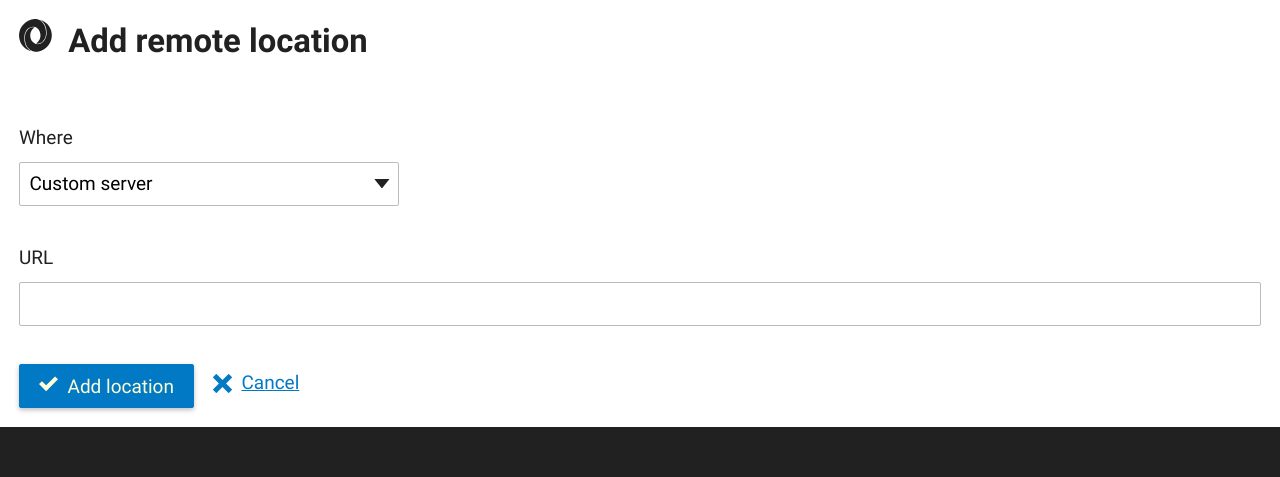
Scenario: should not be able to add with a non http(s) URL
The width and height of the screenshot is (1280, 477).
Step 1. Select "Custom server" in the dropdown labelled "Where" → (209, 184), box [19, 162, 399, 206]
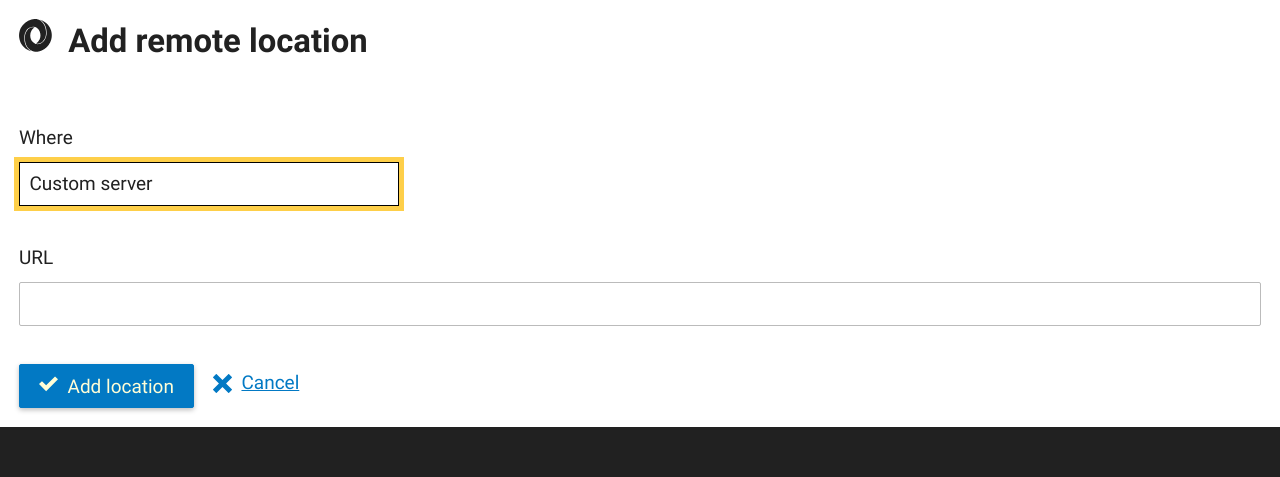
Step 2. Type "file://example" into the field labelled "URL" → (640, 304), box [19, 282, 1261, 326]
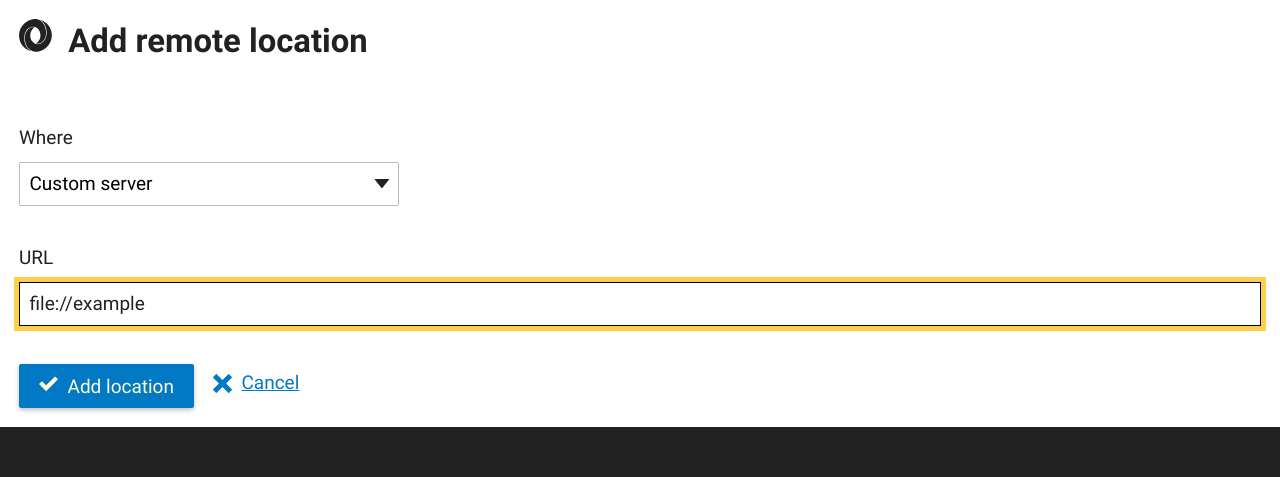
Step 3. Click the button "Add location" → (106, 386), box [19, 364, 194, 408]
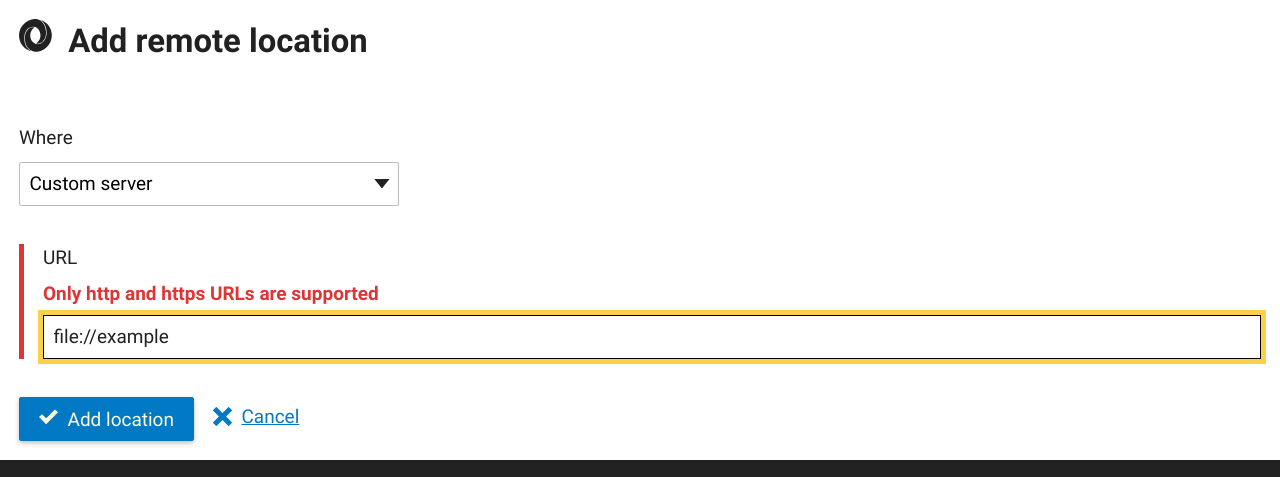
Result: the text "Only http and https URLs are supported" is shown at [42, 281, 379, 305]
